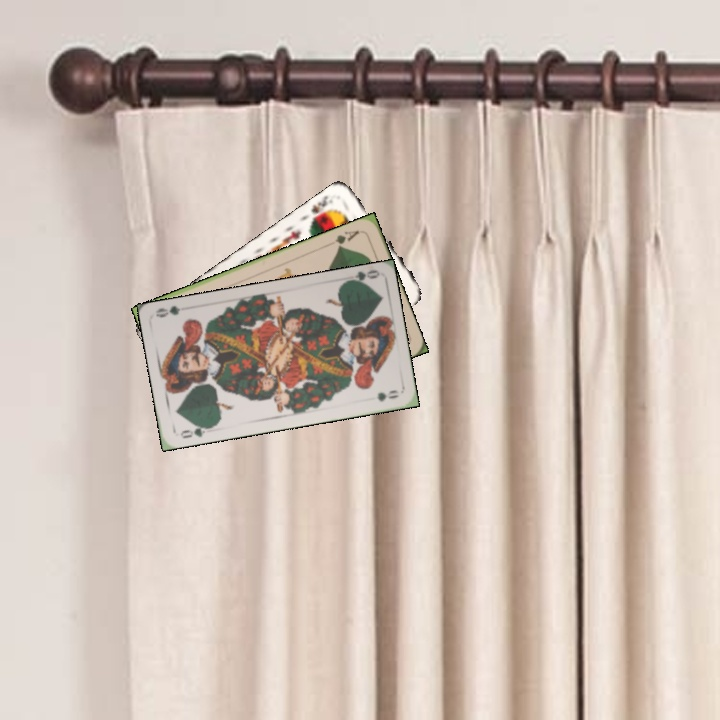GA: (331, 226, 362, 251)
GO: (340, 266, 380, 287), (177, 420, 215, 441)
SK: (307, 191, 335, 225)
